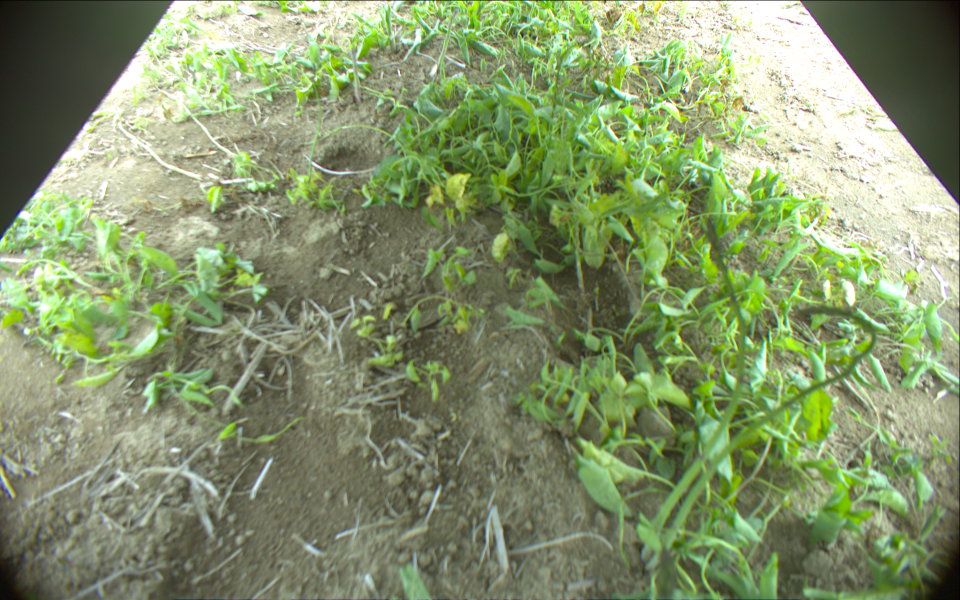aspa: (663, 305, 875, 549), (648, 222, 746, 532), (436, 5, 457, 70), (349, 40, 363, 100)
